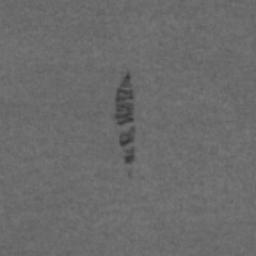Secondary rust skin: (113, 72, 135, 126), (119, 127, 135, 164)
